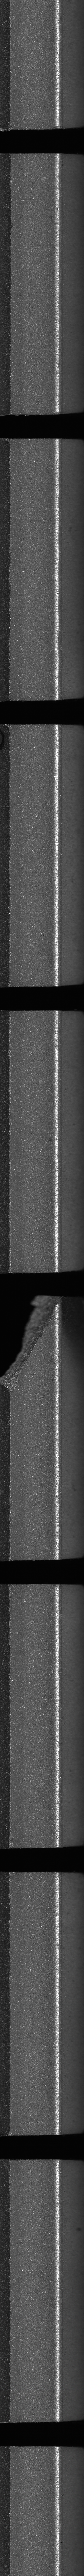Chip: (0, 1296, 61, 1393)
